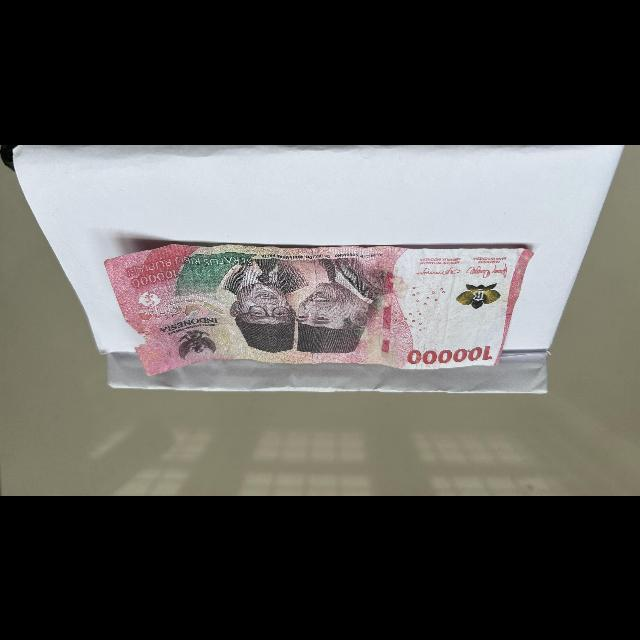Palsu-100k: (93, 241, 539, 381)
Tinta-Palsu-100k: (452, 281, 506, 309)
